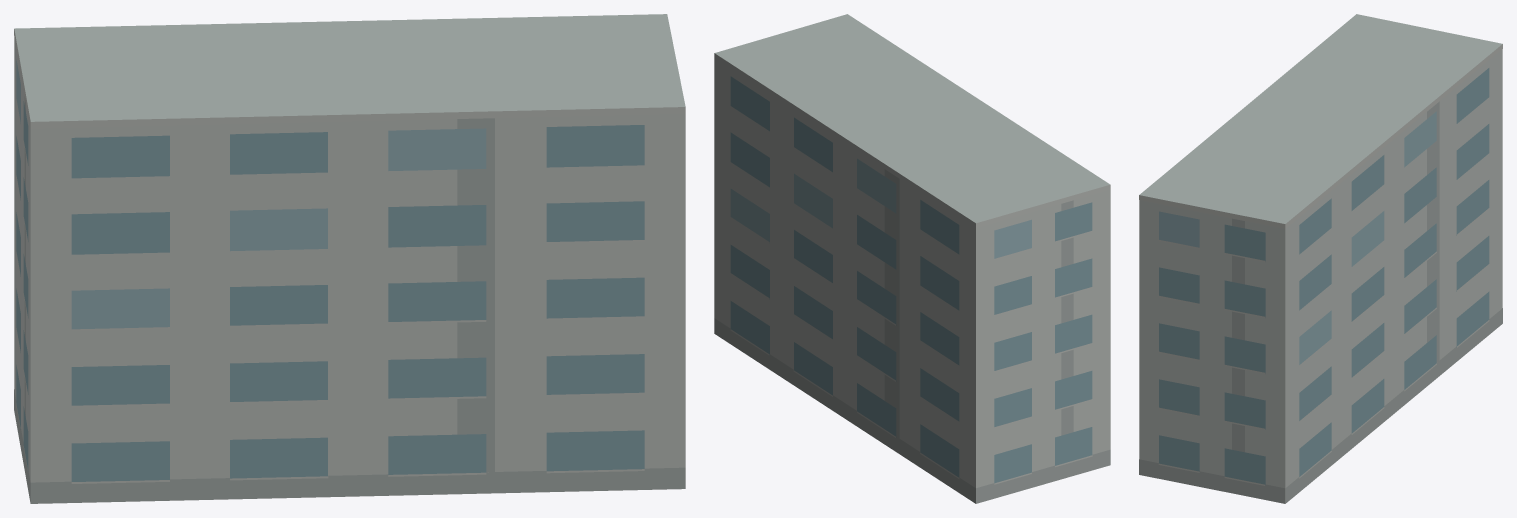
The model's file is survey-upis-32984366.glb.
3 renders of one model, left to right at view 1: azimuth 30°, elevation 25°; view 2: azimuth 150°, elevation 25°; view 3: azimuth 270°, elevation 25°, orthographic. The views are drawn at different scales.
Visible parts, largest first — view 1: survey-upis-32984366.tmp; view 2: survey-upis-32984366.tmp; view 3: survey-upis-32984366.tmp.
Part boxes in pixels (box(x1,y1,x2,y2)): survey-upis-32984366.tmp: box(14, 14, 685, 503); survey-upis-32984366.tmp: box(714, 14, 1110, 503); survey-upis-32984366.tmp: box(1139, 14, 1502, 503).
Size of the model in its own units: 21.67 by 13.45 by 15.85.
